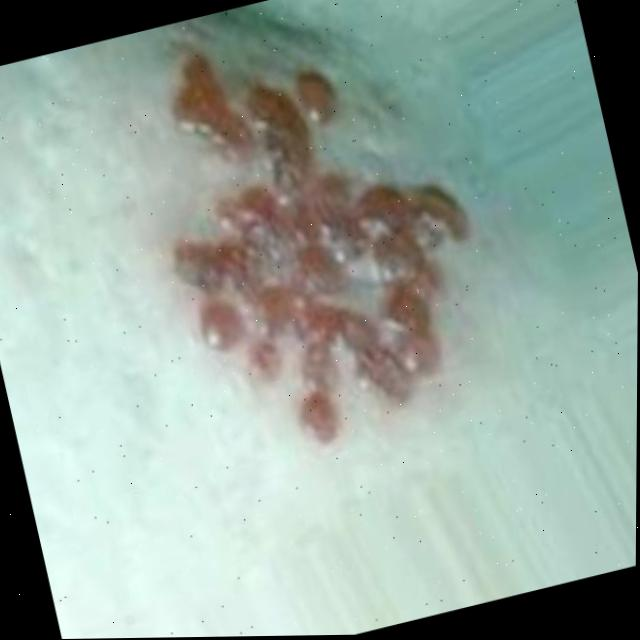Shingles: (112, 0, 526, 464)
